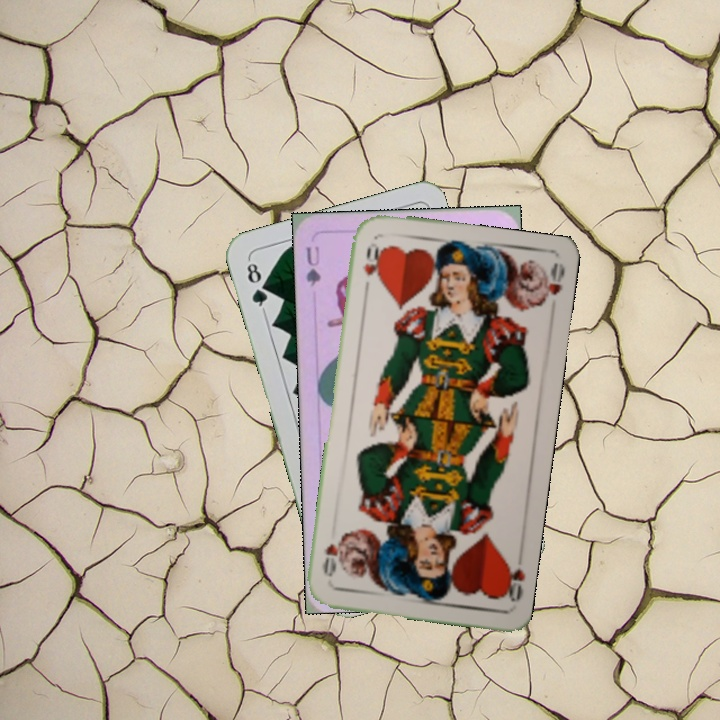G8: (242, 256, 271, 314)
GU: (302, 242, 323, 289)
HO: (498, 559, 528, 605), (359, 243, 384, 295)
